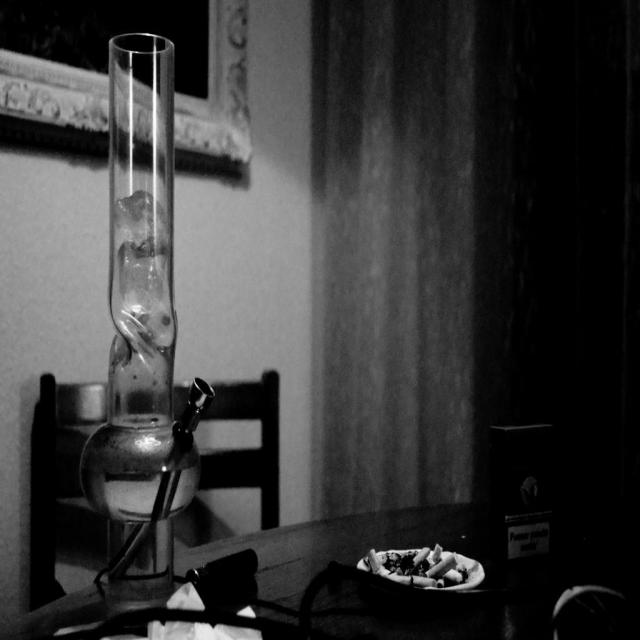Table: (0, 500, 640, 639)
